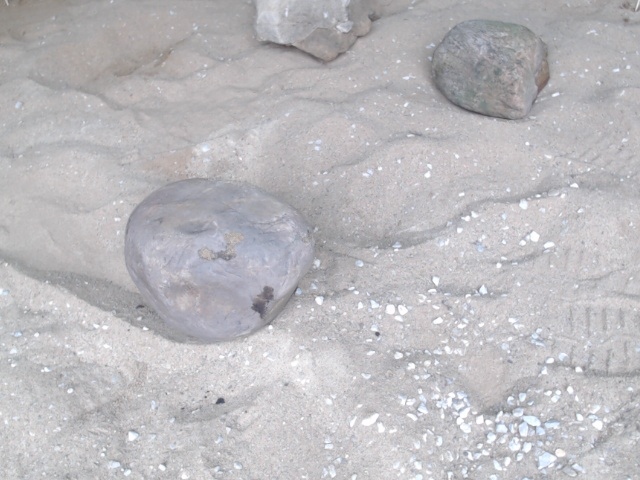rock: (123, 178, 314, 340), (432, 19, 550, 119), (254, 1, 372, 64)
